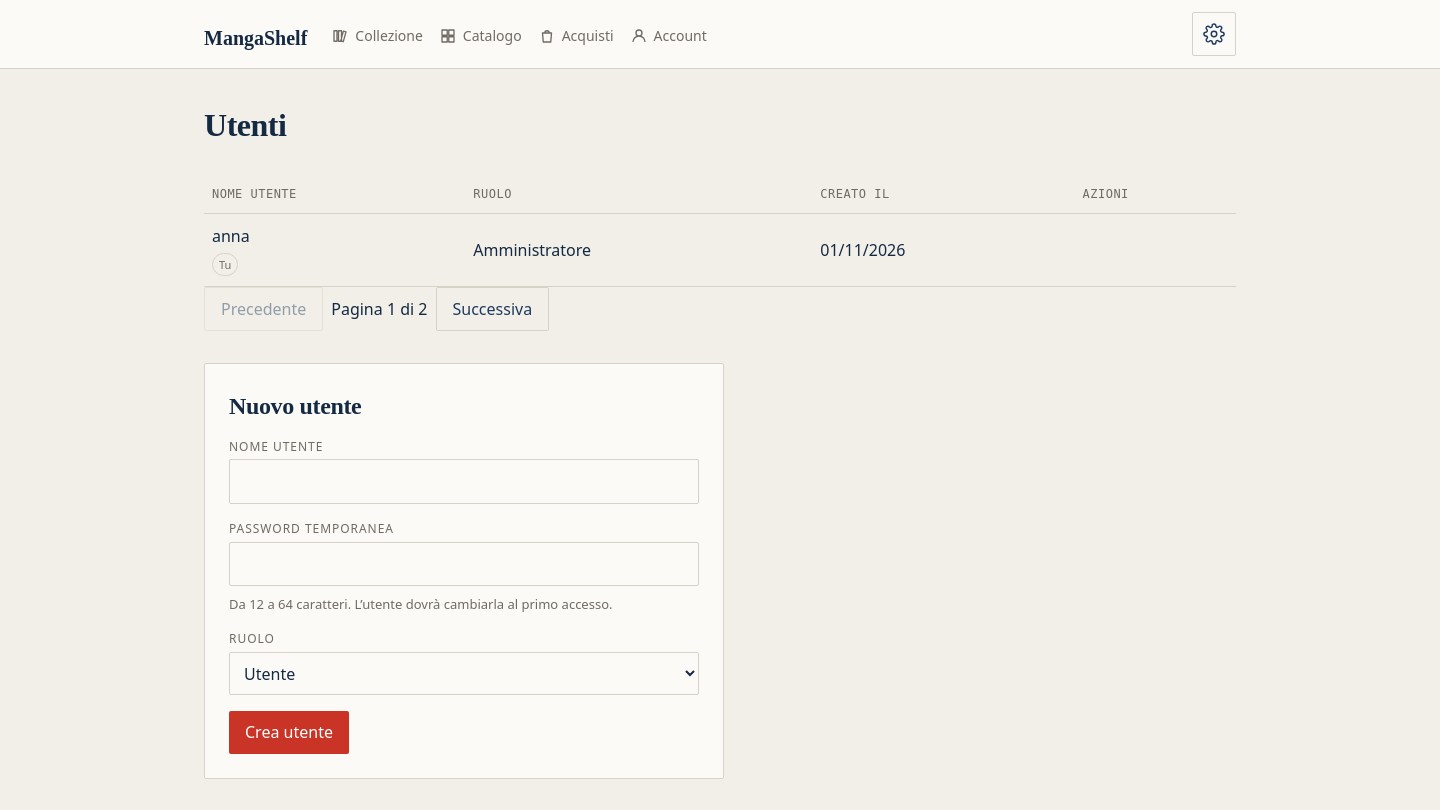
Test: users page › pagesWithPrevNext
Expected: the text "Pagina 1 di 2" is shown, x1=331 y1=297 x2=428 y2=322
Click the button "Successiva".
click(492, 309)  # box x1=436 y1=287 x2=549 y2=331
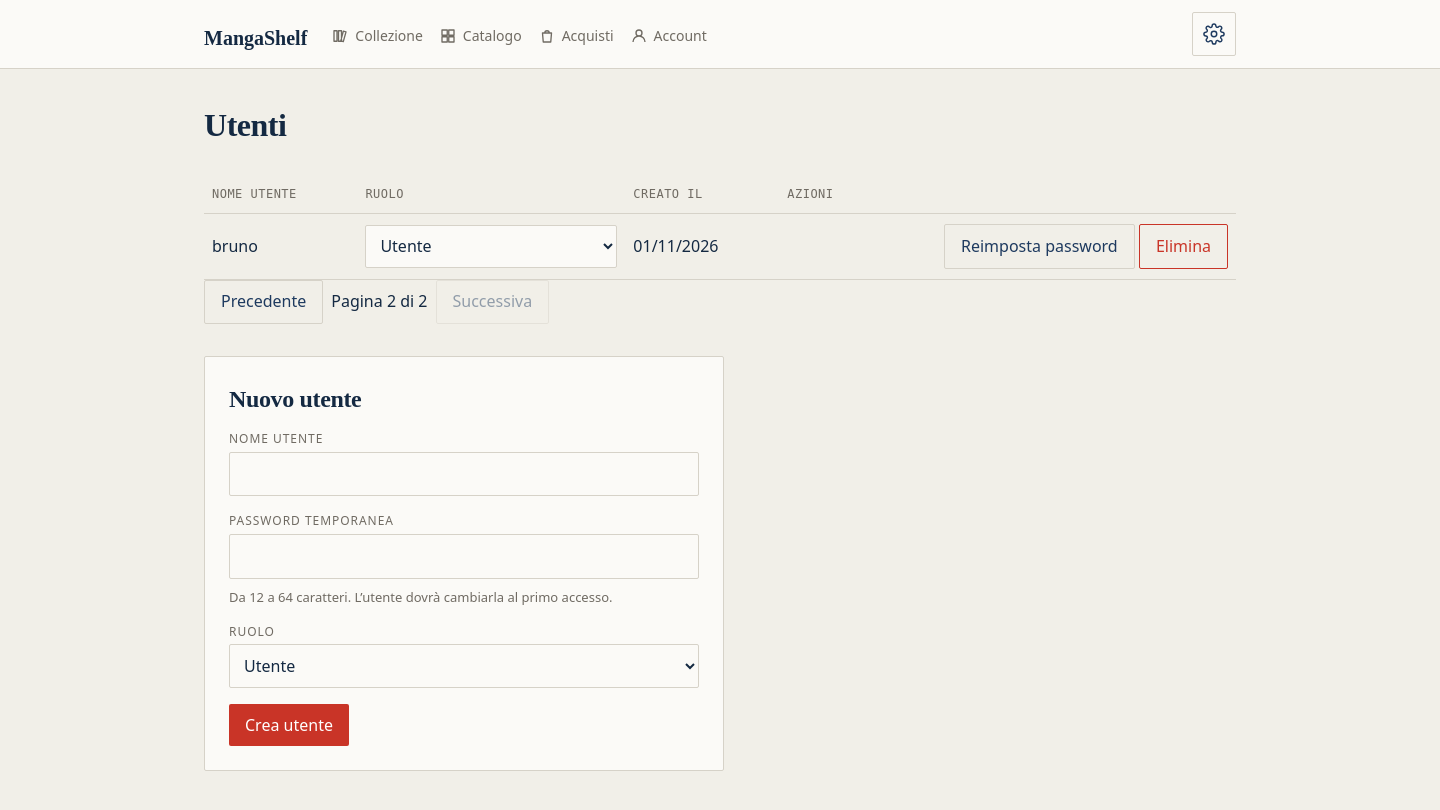
Now the text "Pagina 2 di 2" is shown, box x1=331 y1=289 x2=428 y2=314
Now the text "bruno" is shown, box x1=204 y1=214 x2=357 y2=279
